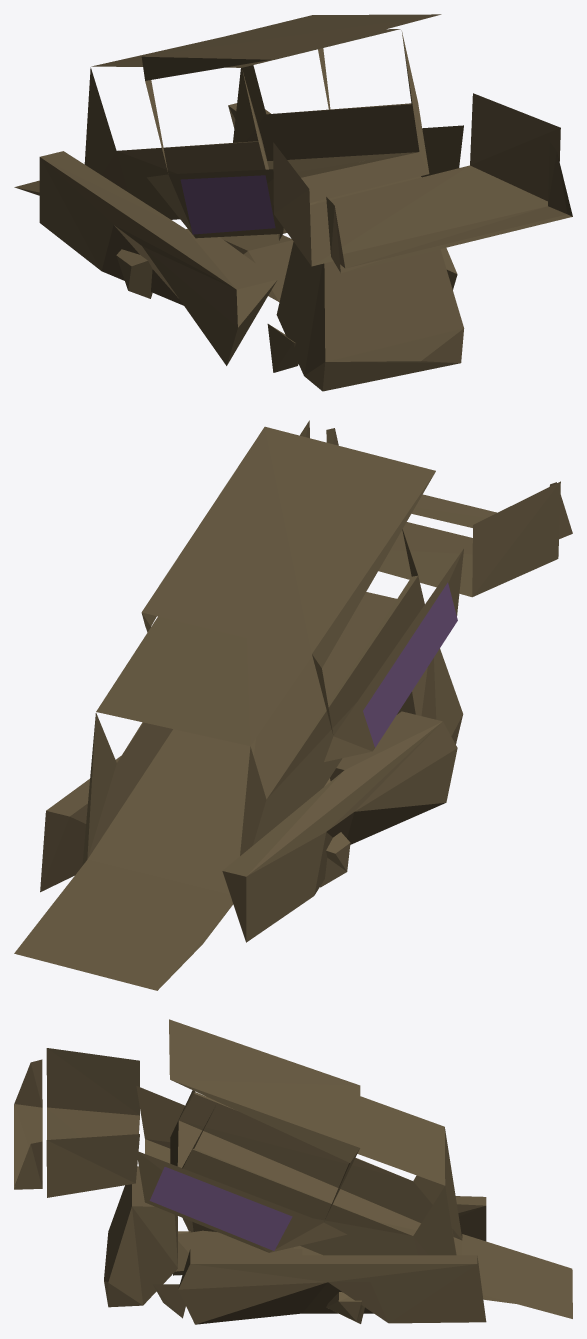
The model's file is stair-truck.lod2.glb.
The picture shows the model from 3 angles, top to bottom: view 1: azimuth 30°, elevation 25°; view 2: azimuth 150°, elevation 25°; view 3: azimuth 270°, elevation 25°; orthographic projection. The views are drawn at different scales.
Visible parts, largest first — view 1: Object_15; view 2: Object_15; view 3: Object_15.
Part boxes in pixels (left/top/right/bottom): Object_15: left=14, top=14, right=572, bottom=391; Object_15: left=14, top=420, right=572, bottom=990; Object_15: left=14, top=1019, right=572, bottom=1324.
Bounding box in the file's own units: 3.48 × 4.36 × 8.91.
